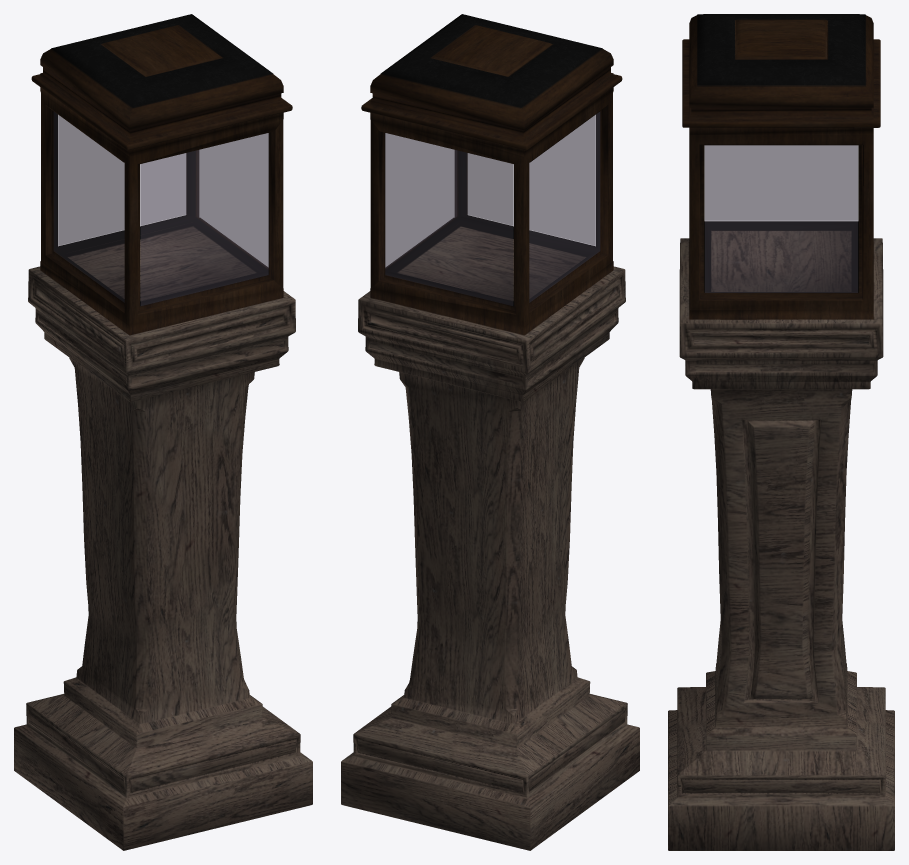
The picture shows the model from 3 angles, left to right: view 1: azimuth 30°, elevation 25°; view 2: azimuth 150°, elevation 25°; view 3: azimuth 270°, elevation 25°; orthographic projection. The views are drawn at different scales.
Parts seen in each view (by area): view 1: Schrank.003_0, Glas_1; view 2: Schrank.003_0, Glas_1; view 3: Schrank.003_0, Glas_1.
Boxes of the visible parts, box(x1,y1,x2,y2) form: Schrank.003_0: box(14, 14, 312, 850); Glas_1: box(54, 112, 268, 305); Schrank.003_0: box(341, 14, 639, 850); Glas_1: box(385, 112, 599, 305); Schrank.003_0: box(668, 14, 894, 850); Glas_1: box(705, 145, 857, 292).
Size of the model in its own units: 0.426 by 1.59 by 0.426.
Materials: 2 (1 with a texture image).
